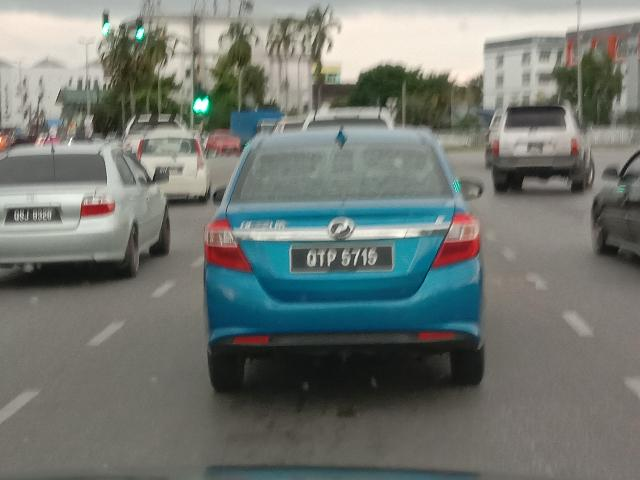License_Plate: (291, 246, 395, 273), (7, 208, 62, 226)
